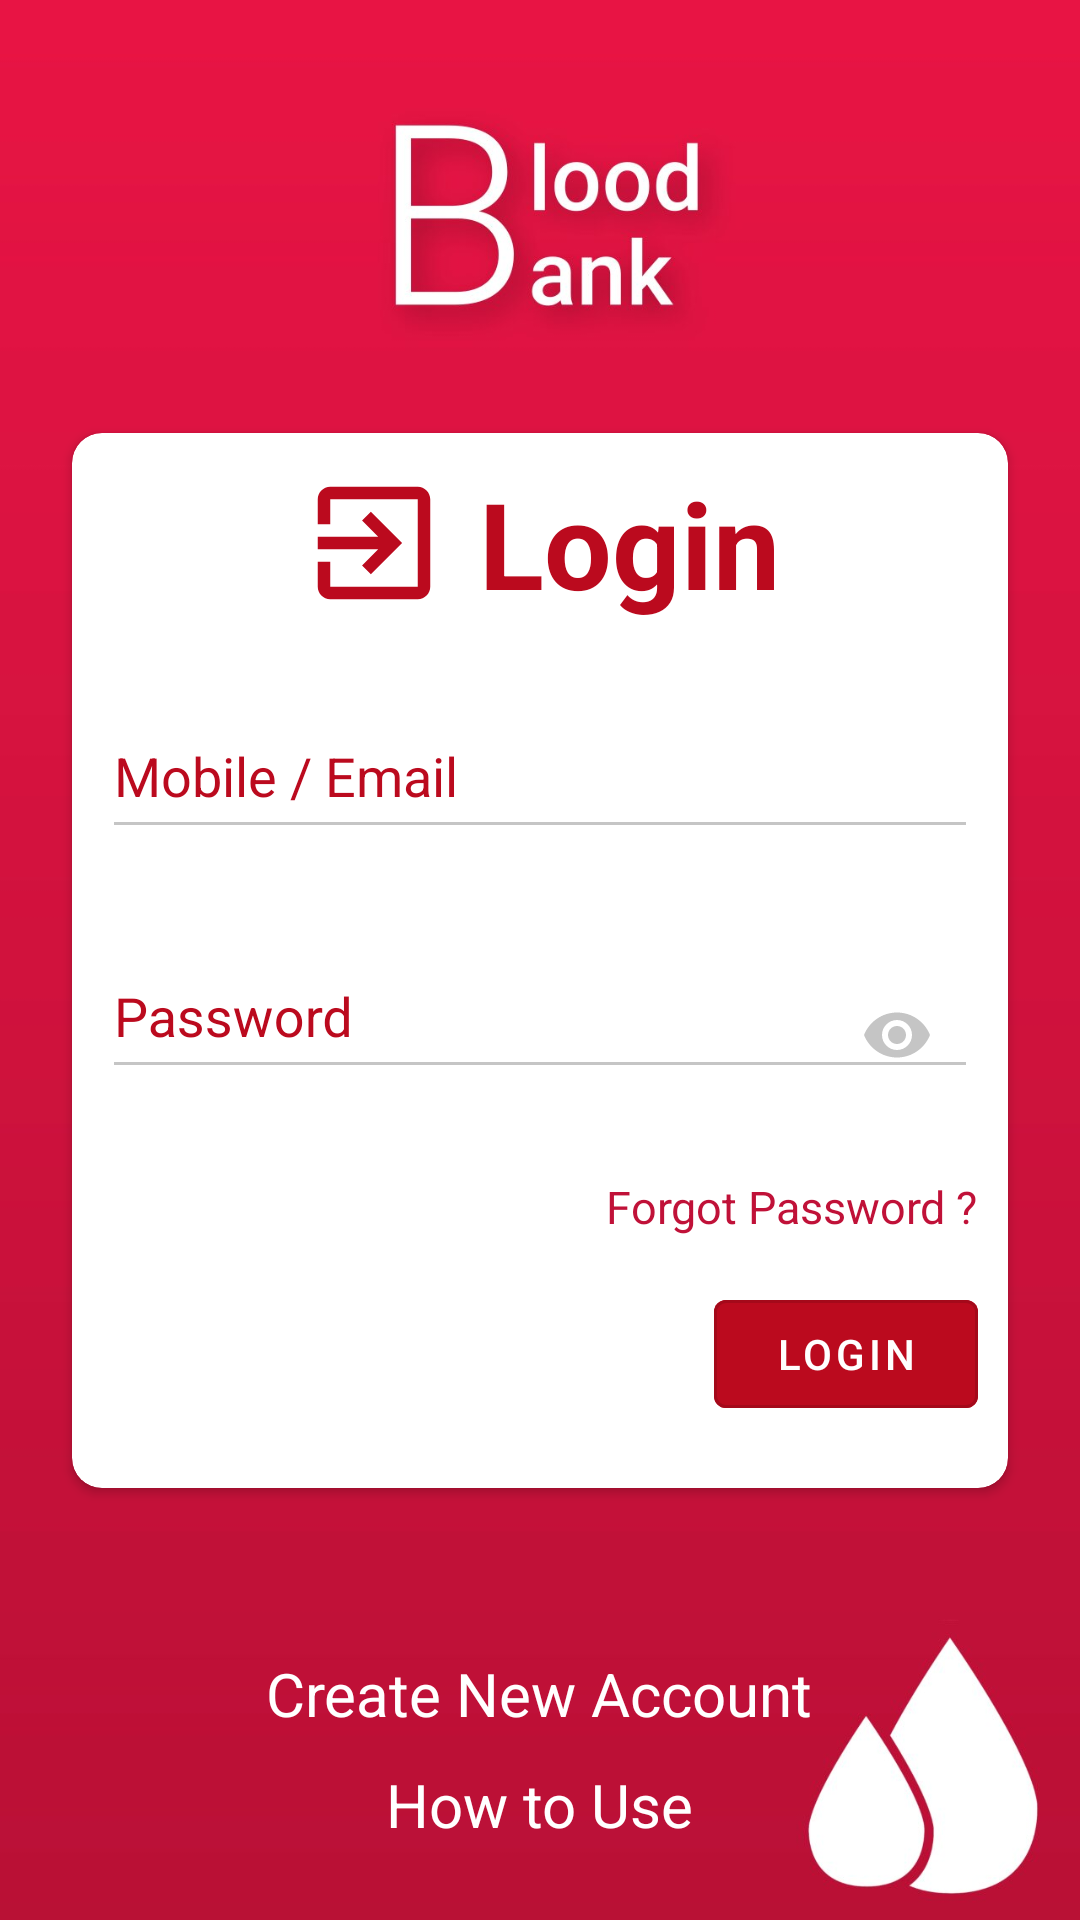

Named icons in this screenshot (1080 x 1920) and their centers, point (x, y):
eye: point (897, 1035)
